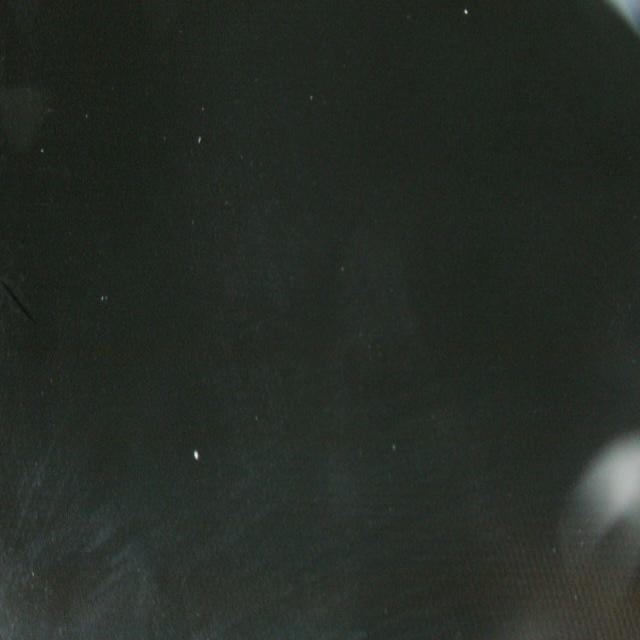very small scratch: (188, 440, 202, 465), (460, 2, 475, 23)
